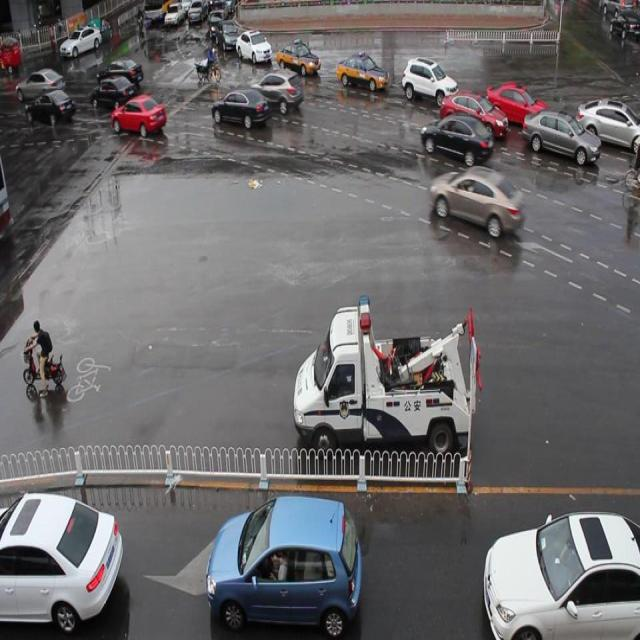bus: (288, 298, 479, 462)
car: (205, 488, 363, 640), (478, 507, 640, 640), (1, 485, 122, 631), (428, 160, 522, 242), (521, 106, 602, 170), (420, 112, 493, 170), (440, 87, 508, 144), (400, 50, 460, 110), (574, 95, 640, 149), (484, 73, 548, 124), (335, 48, 391, 98), (111, 94, 171, 138), (248, 70, 302, 114), (210, 90, 270, 128), (276, 37, 321, 77), (234, 23, 273, 67), (212, 21, 239, 52)
